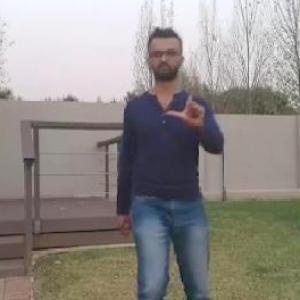land_hand: (165, 79, 208, 126)
